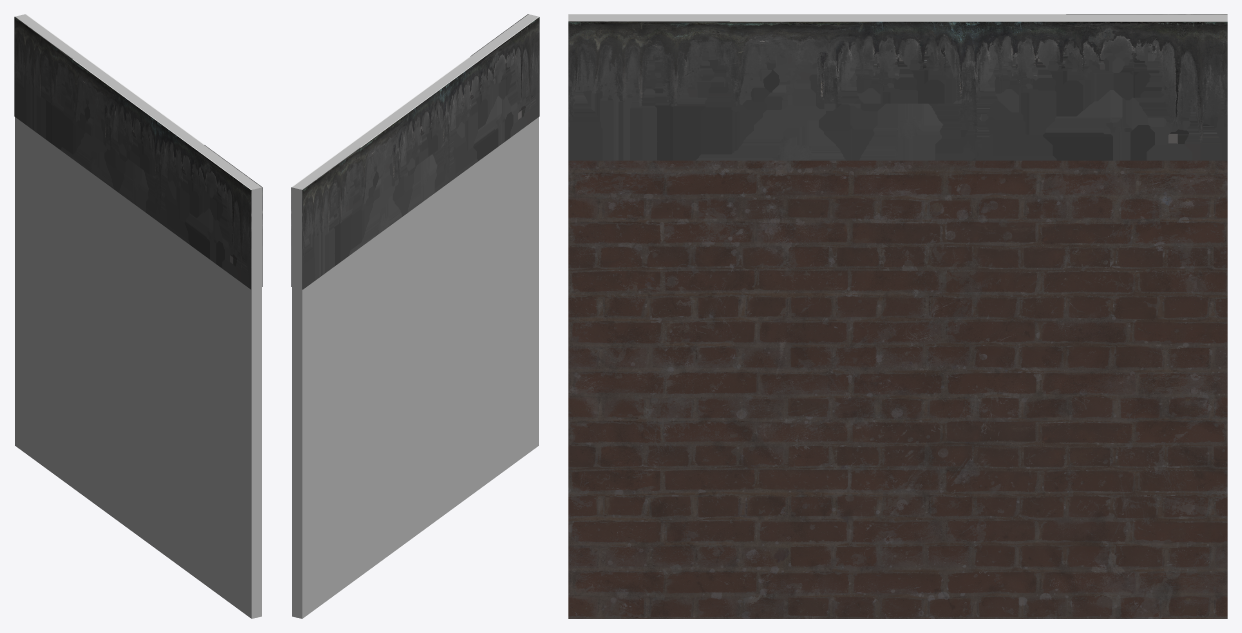
The model's file is Kit_BricksPlaster.fbx.
3 views of the same model, side by side, from view 1: azimuth 30°, elevation 25°; view 2: azimuth 150°, elevation 25°; view 3: azimuth 270°, elevation 25° (orthographic). The views are drawn at different scales.
Visible parts, largest first — view 1: Kit_BricksPlaster; view 2: Kit_BricksPlaster; view 3: Kit_BricksPlaster.
Boxes of the visible parts, left/top/right/bottom form: Kit_BricksPlaster: left=14, top=14, right=262, bottom=618; Kit_BricksPlaster: left=291, top=14, right=539, bottom=618; Kit_BricksPlaster: left=568, top=14, right=1227, bottom=618.
Bounding box in the file's own units: 4.41 × 157 × 157.
